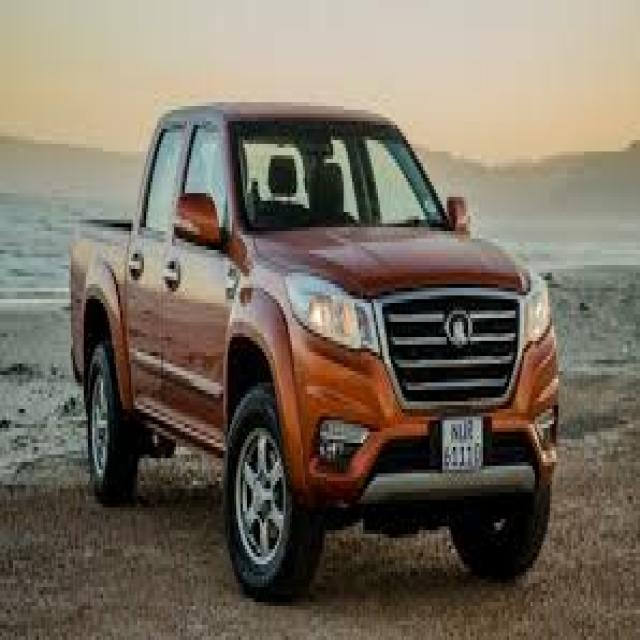Pickup Trucks: (67, 102, 560, 602)
